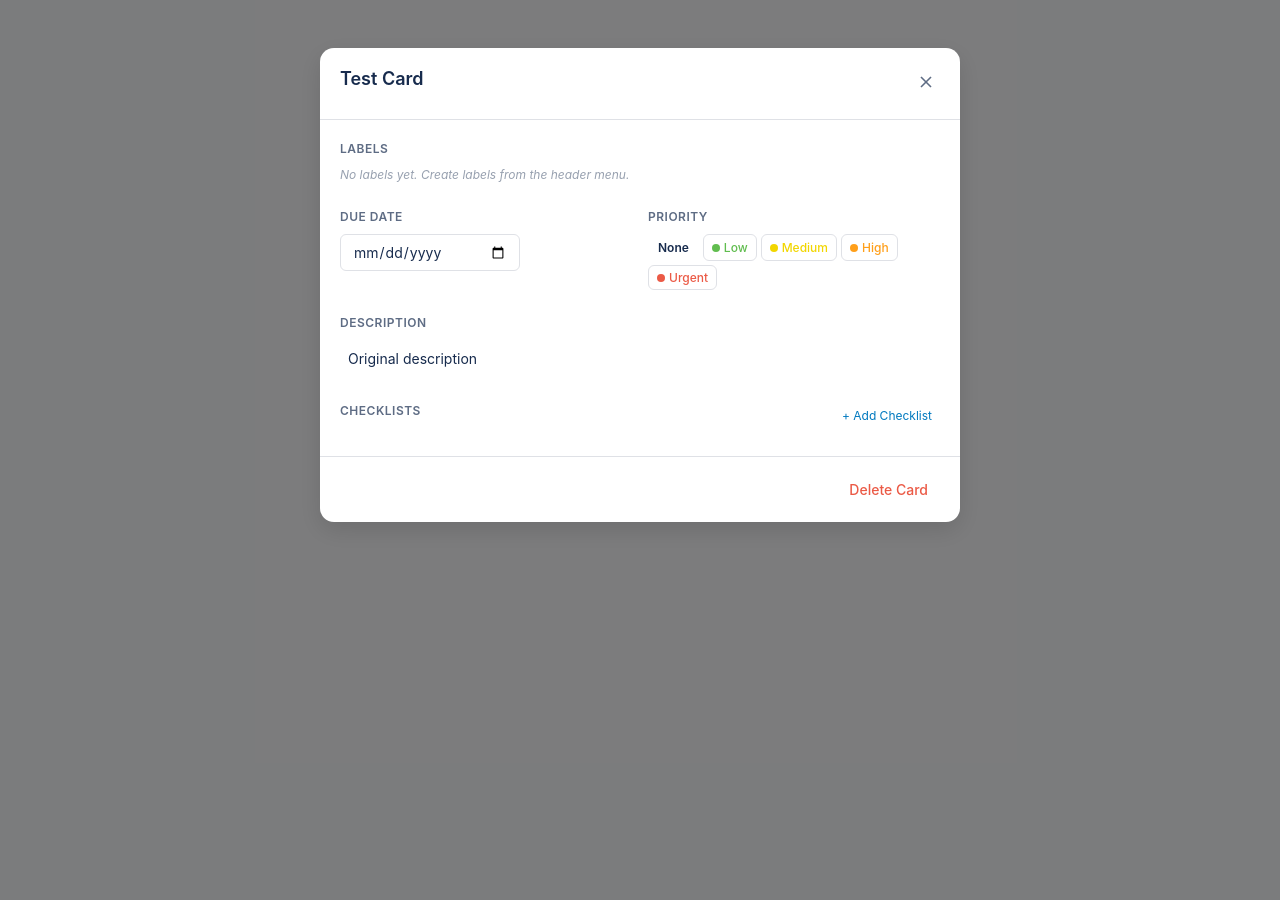
Scenario: CardDetail › should edit description on click
Click the text "Original description". click: (413,358)
box: [348,350,477,367]
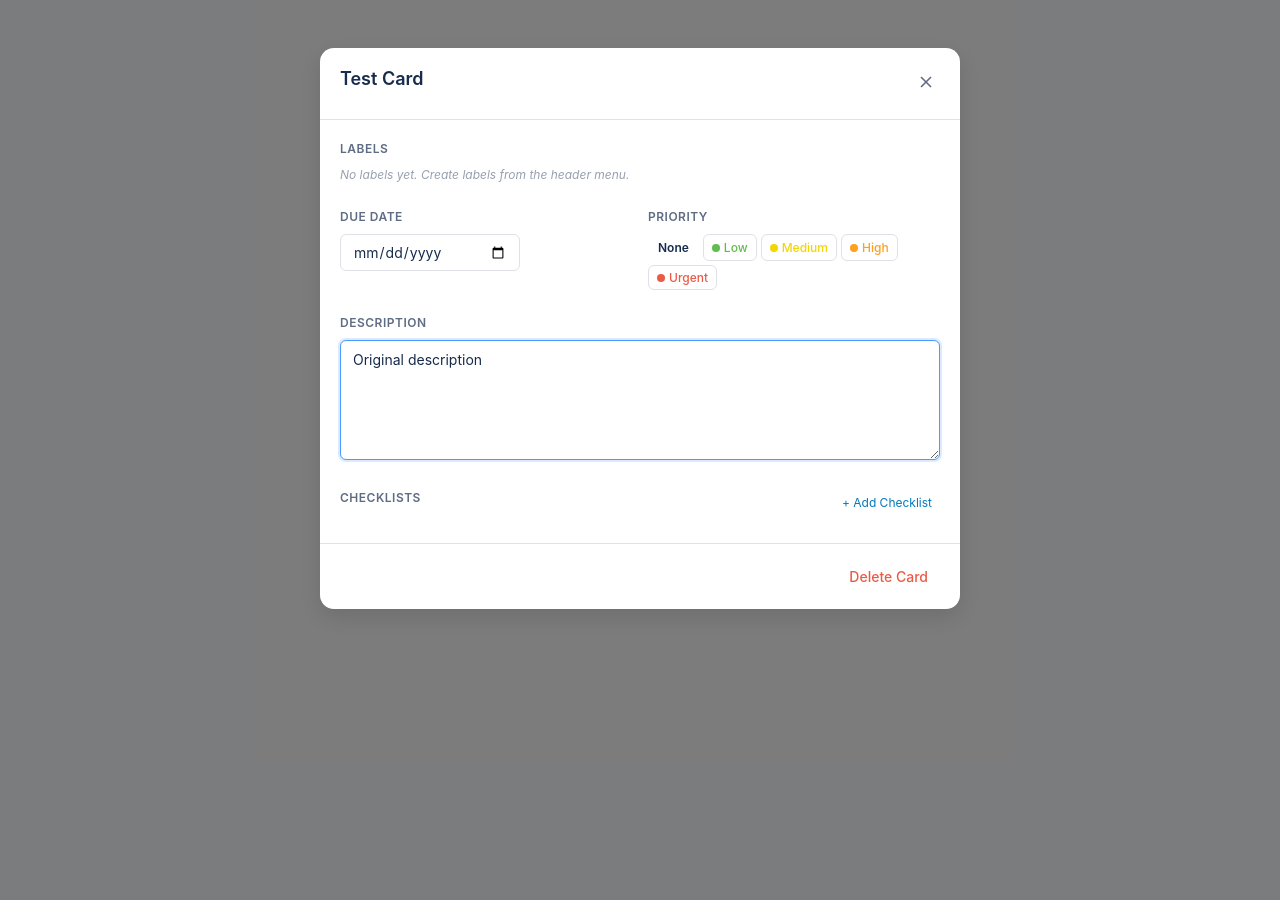
expect the text box showing "Original description" is shown: met, box [340,340,940,460]
